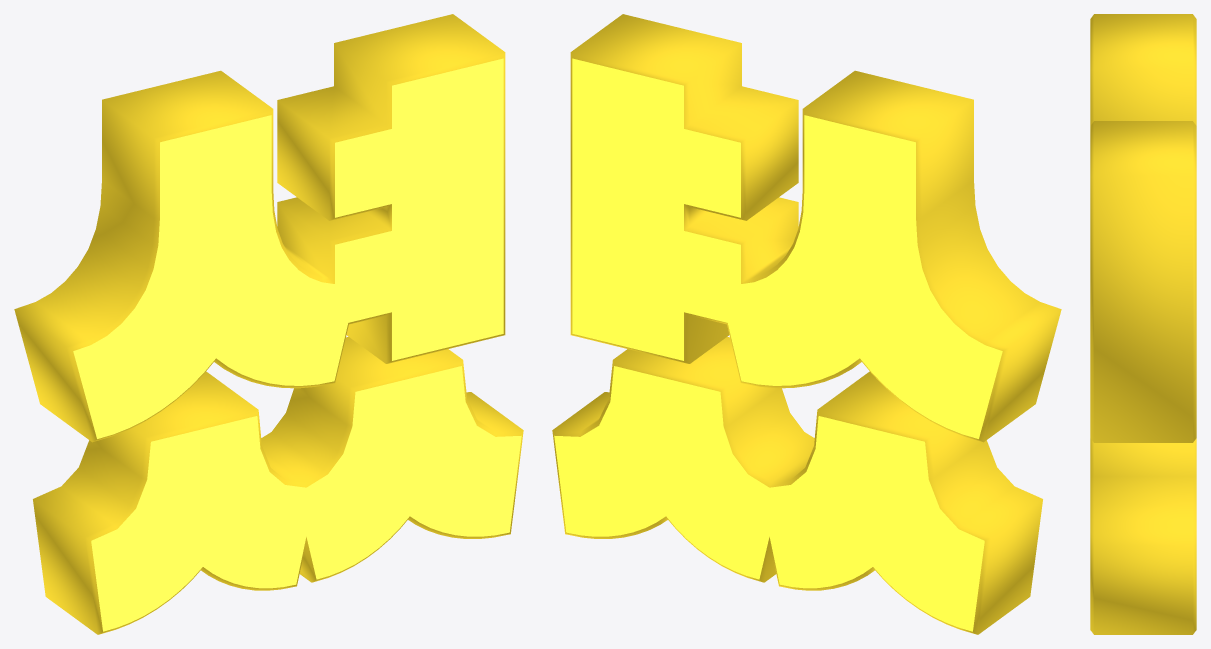
3 views of the same model, side by side, from view 1: azimuth 30°, elevation 25°; view 2: azimuth 150°, elevation 25°; view 3: azimuth 270°, elevation 25° (orthographic). The views are drawn at different scales.
Visible parts, largest first — view 1: glyph; view 2: glyph; view 3: glyph.
Boxes of the visible parts, left/top/right/bottom form: glyph: left=14, top=14, right=523, bottom=634; glyph: left=552, top=14, right=1061, bottom=634; glyph: left=1090, top=14, right=1196, bottom=634.
Size of the model in its own units: 0.1053 by 0.1064 by 0.0225.
